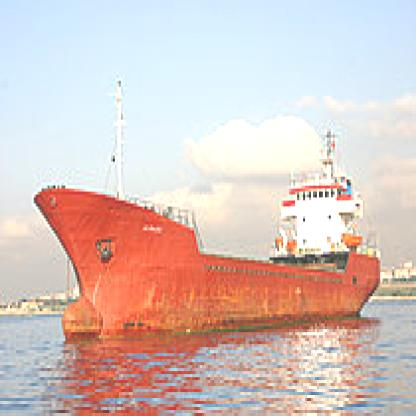Tanker: (44, 144, 388, 332)
